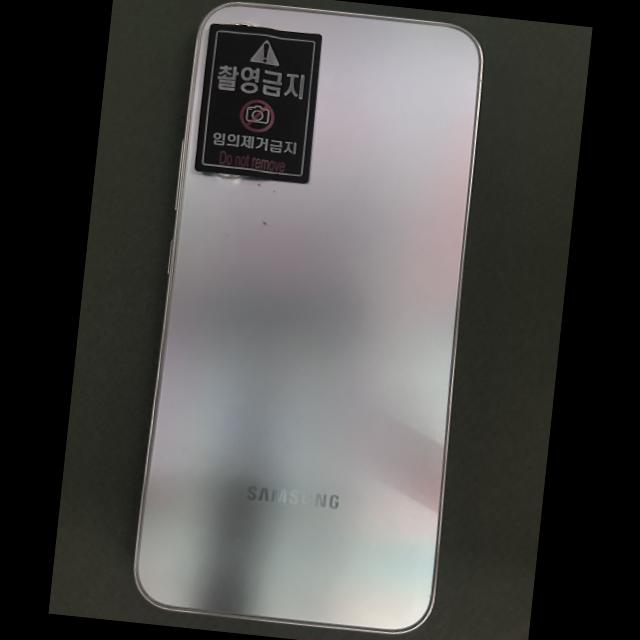phone: (135, 4, 482, 632)
sticker: (192, 22, 323, 184)
